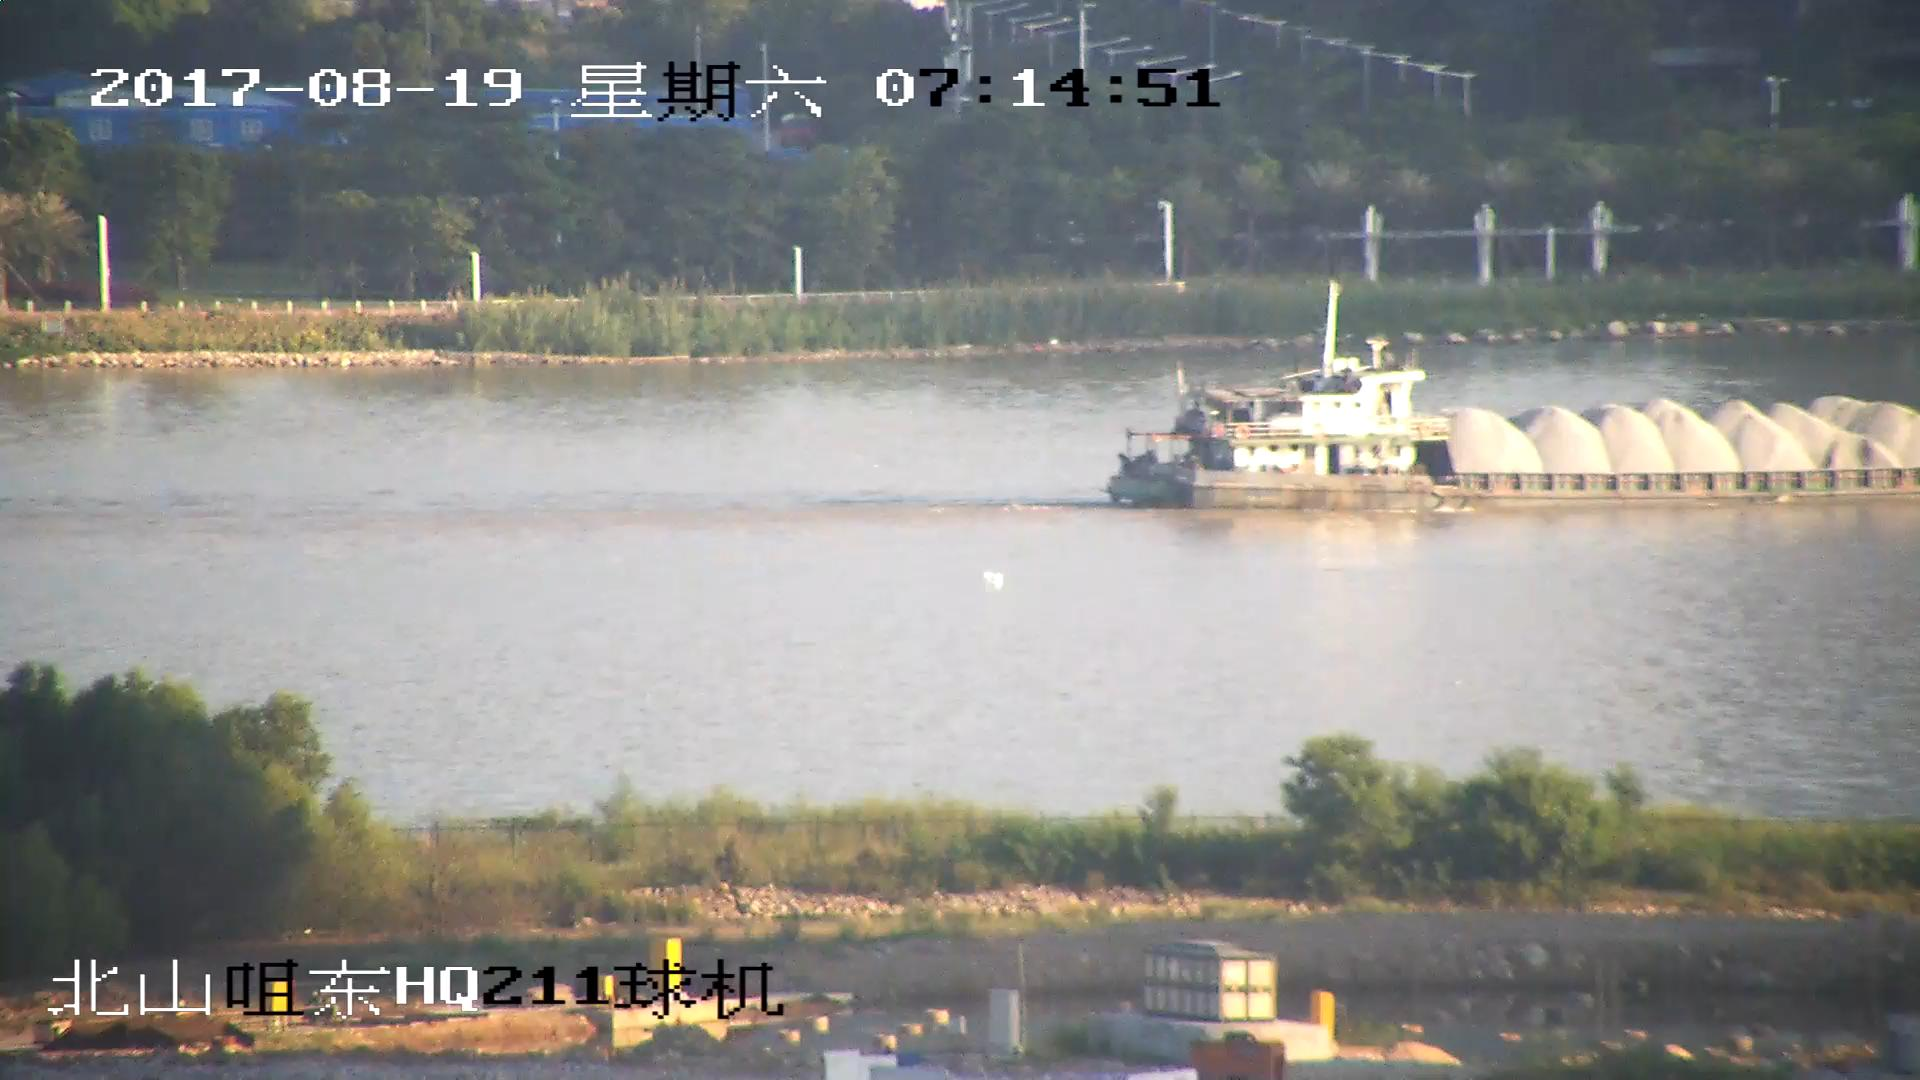ore carrier: (1097, 285, 1920, 513)
